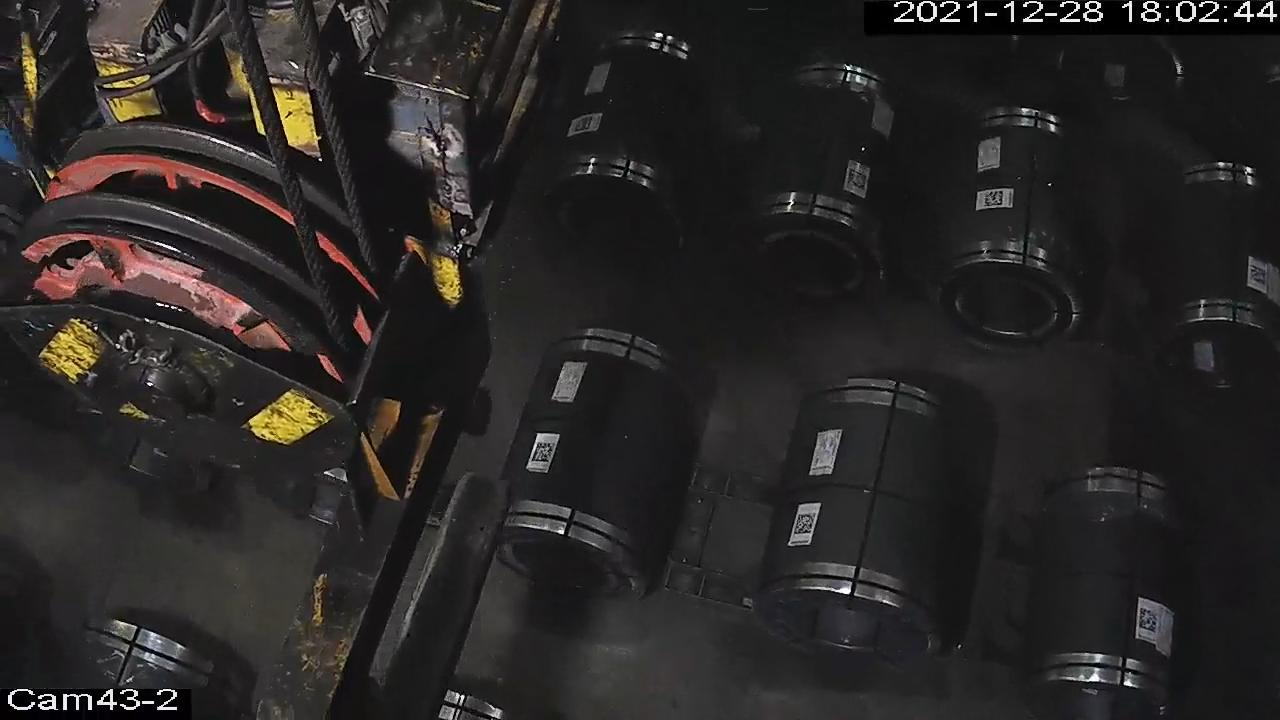data matrix: (793, 511, 820, 538), (1136, 607, 1161, 635), (530, 441, 558, 465), (847, 168, 870, 193), (1248, 264, 1271, 289), (983, 189, 1006, 209)
